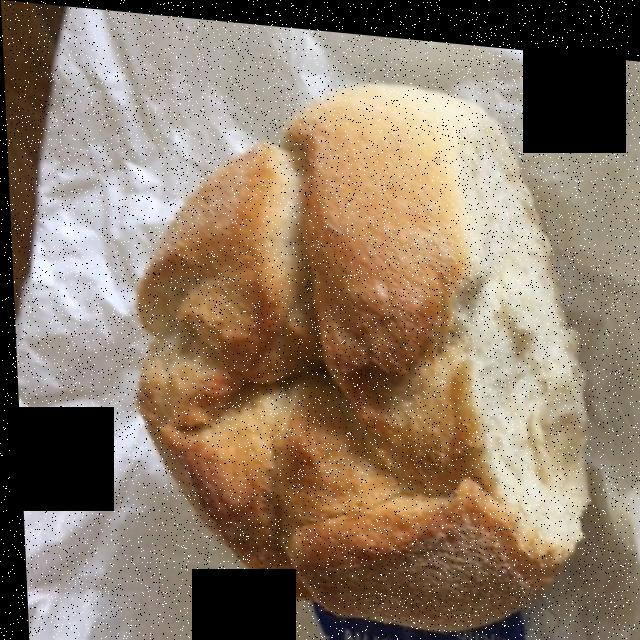bread-white: (141, 85, 582, 621)
